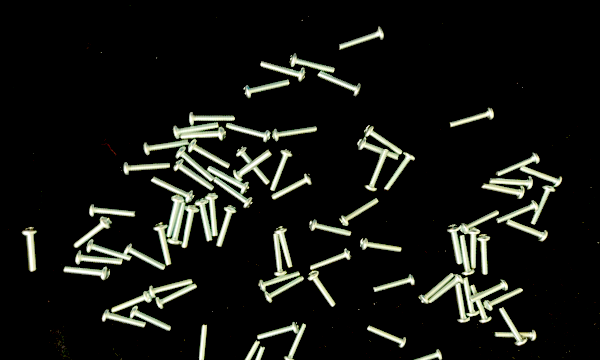longscrew: (235, 145, 272, 187), (173, 160, 216, 194), (384, 150, 417, 194), (122, 241, 167, 273), (187, 138, 232, 170), (175, 147, 215, 183), (212, 178, 255, 211), (72, 216, 113, 250), (207, 166, 252, 196), (150, 177, 197, 205), (494, 150, 541, 178), (364, 125, 405, 157), (129, 306, 175, 334), (233, 150, 273, 182), (287, 51, 338, 76), (498, 306, 528, 348), (337, 26, 385, 52), (271, 173, 314, 202), (317, 71, 363, 98), (262, 276, 306, 304), (338, 198, 380, 227), (418, 272, 456, 304), (154, 283, 199, 310), (448, 105, 496, 130), (427, 274, 465, 305), (259, 59, 308, 83), (357, 136, 402, 162), (495, 198, 540, 224), (269, 147, 294, 193), (530, 185, 558, 226), (364, 149, 390, 193), (457, 209, 501, 235), (308, 271, 338, 309), (366, 323, 408, 350), (86, 240, 134, 263), (225, 121, 273, 144), (309, 248, 353, 273), (484, 287, 526, 313), (102, 308, 148, 331), (109, 291, 153, 315), (152, 220, 174, 268), (506, 219, 550, 243), (216, 204, 239, 249), (274, 224, 296, 271), (243, 78, 292, 99), (519, 165, 563, 188), (469, 279, 509, 304), (308, 217, 353, 239), (283, 322, 309, 360), (64, 263, 113, 283), (21, 225, 41, 274), (256, 320, 300, 342), (148, 278, 194, 299), (194, 198, 215, 243), (167, 201, 188, 246), (165, 195, 186, 240), (470, 283, 493, 324), (258, 271, 302, 292), (74, 249, 125, 267), (88, 201, 138, 219), (180, 205, 200, 250), (141, 139, 190, 157), (271, 124, 320, 142), (373, 273, 417, 293), (359, 236, 404, 255), (481, 182, 526, 201), (172, 123, 221, 140), (271, 232, 289, 278), (494, 325, 539, 343), (458, 233, 476, 278), (122, 160, 172, 176), (187, 110, 237, 126), (446, 223, 464, 267), (179, 127, 228, 143), (205, 191, 221, 239), (489, 175, 535, 191), (455, 282, 472, 325), (462, 278, 480, 318), (466, 228, 482, 270), (193, 323, 211, 360), (477, 233, 492, 277), (232, 339, 261, 360), (401, 347, 444, 360), (242, 345, 267, 360)
